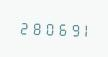eight: (29, 19, 40, 36)
nine: (66, 20, 77, 37)
one: (78, 20, 89, 38)
six: (54, 20, 65, 37)
two: (17, 18, 28, 36)
zero: (42, 19, 53, 36)
